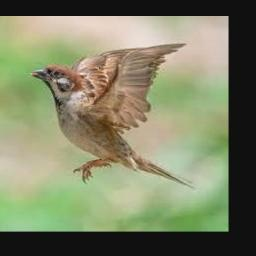Sparrow: (28, 43, 196, 188)
